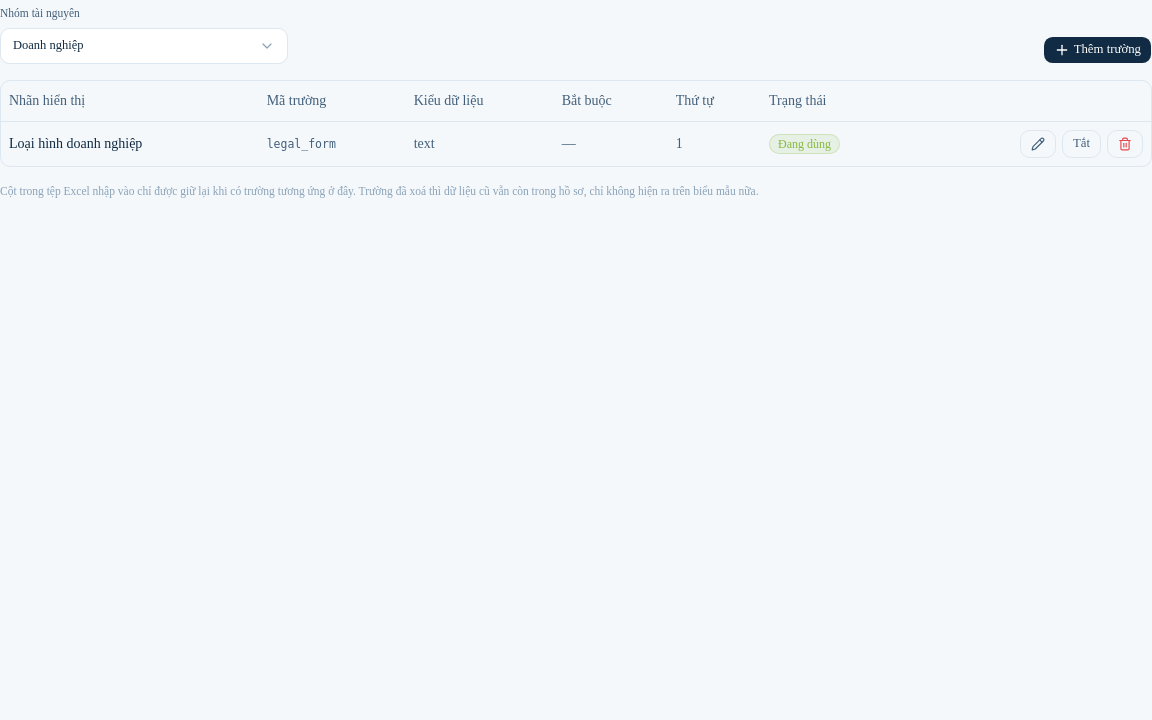
Xoá a field: a confirm DIALOG, not a row under the table (S33) › Huỷ closes the dialog without a request
This screenshot has width=1152, height=720.
What coordinates should you click on to do the following:
click the button named "Xoá trường Loại hình doanh nghiệp"
I would click on:
 (1125, 144)
Its box is top-left (1107, 130), bottom-right (1143, 158).
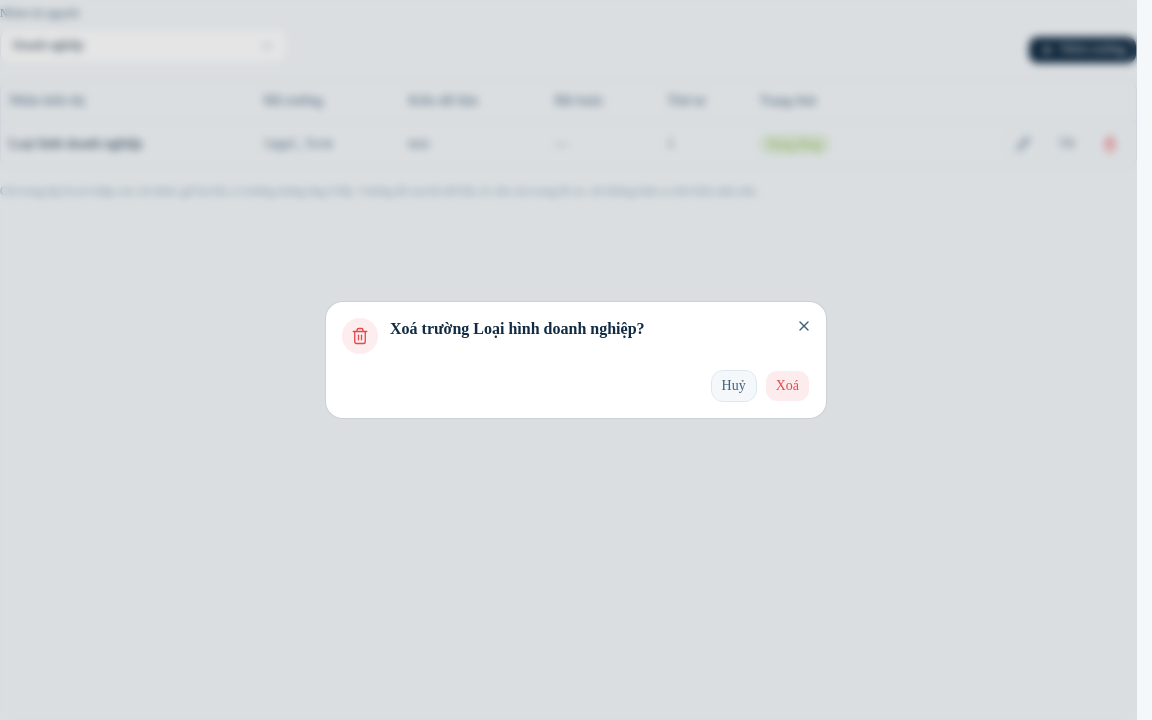
What coordinates should you click on to do the following:
click the button "Huỷ"
I would click on:
 (734, 386)
Its box is top-left (710, 370), bottom-right (757, 402).
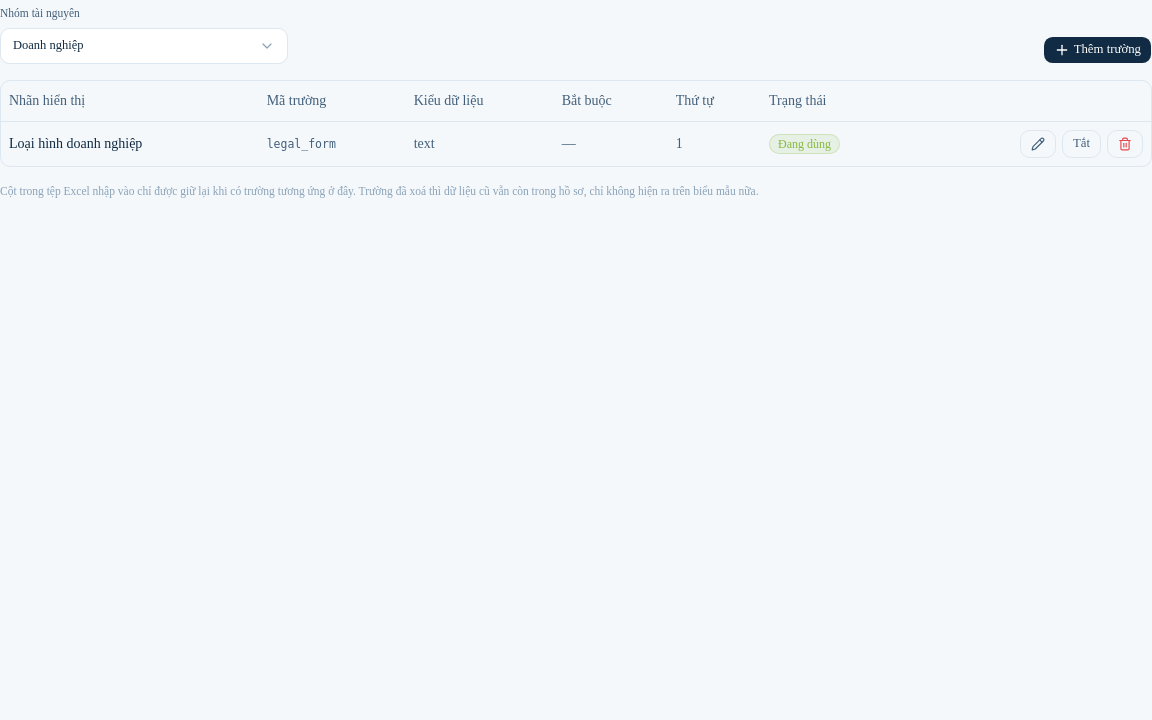
Now the dialog is gone
